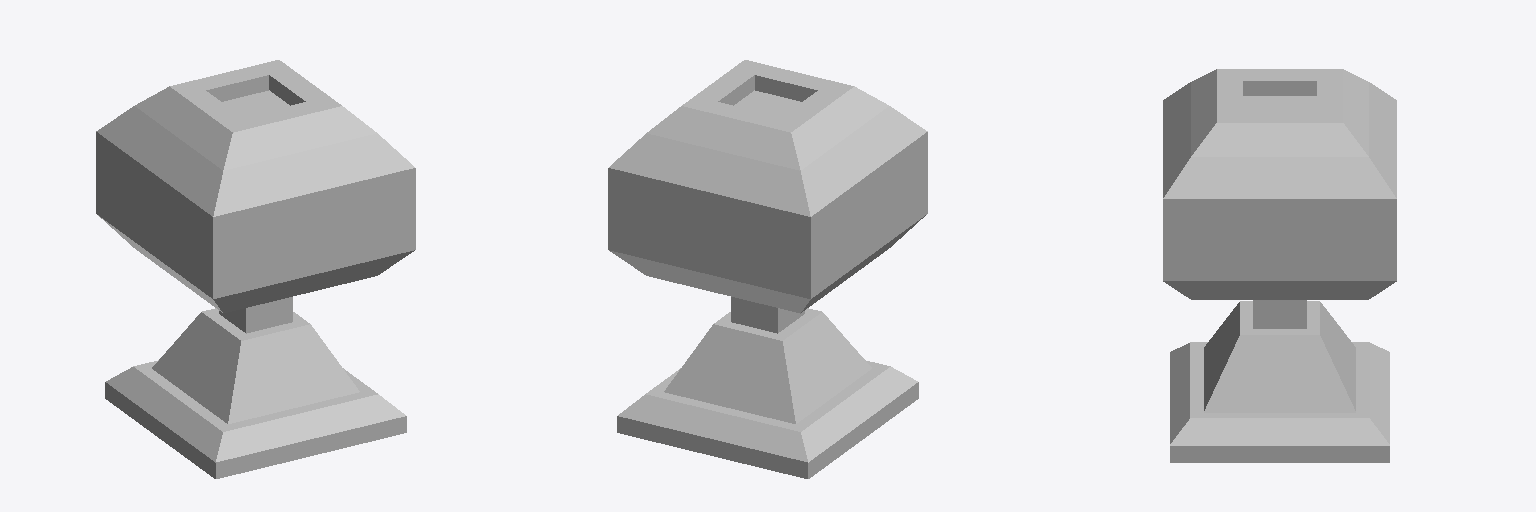
The model's file is Lamp 2.obj.
3 views of the same model, side by side, from view 1: azimuth 30°, elevation 25°; view 2: azimuth 150°, elevation 25°; view 3: azimuth 270°, elevation 25° (orthographic).
Parts seen in each view (by area): view 1: Cube.003, Cube.001, Cube.002; view 2: Cube.003, Cube.001, Cube.002; view 3: Cube.003, Cube.001, Cube.002.
Part boxes in pixels (x1,y1,x2,y2): Cube.003: (96,60,415,313); Cube.001: (105,308,406,478); Cube.002: (219,297,292,333); Cube.003: (608,60,927,313); Cube.001: (617,308,918,478); Cube.002: (731,297,804,333); Cube.003: (1163,69,1396,299); Cube.001: (1170,301,1389,462); Cube.002: (1253,300,1306,328).
Bounding box in the file's own units: 2.12 × 3.2 × 2.12.